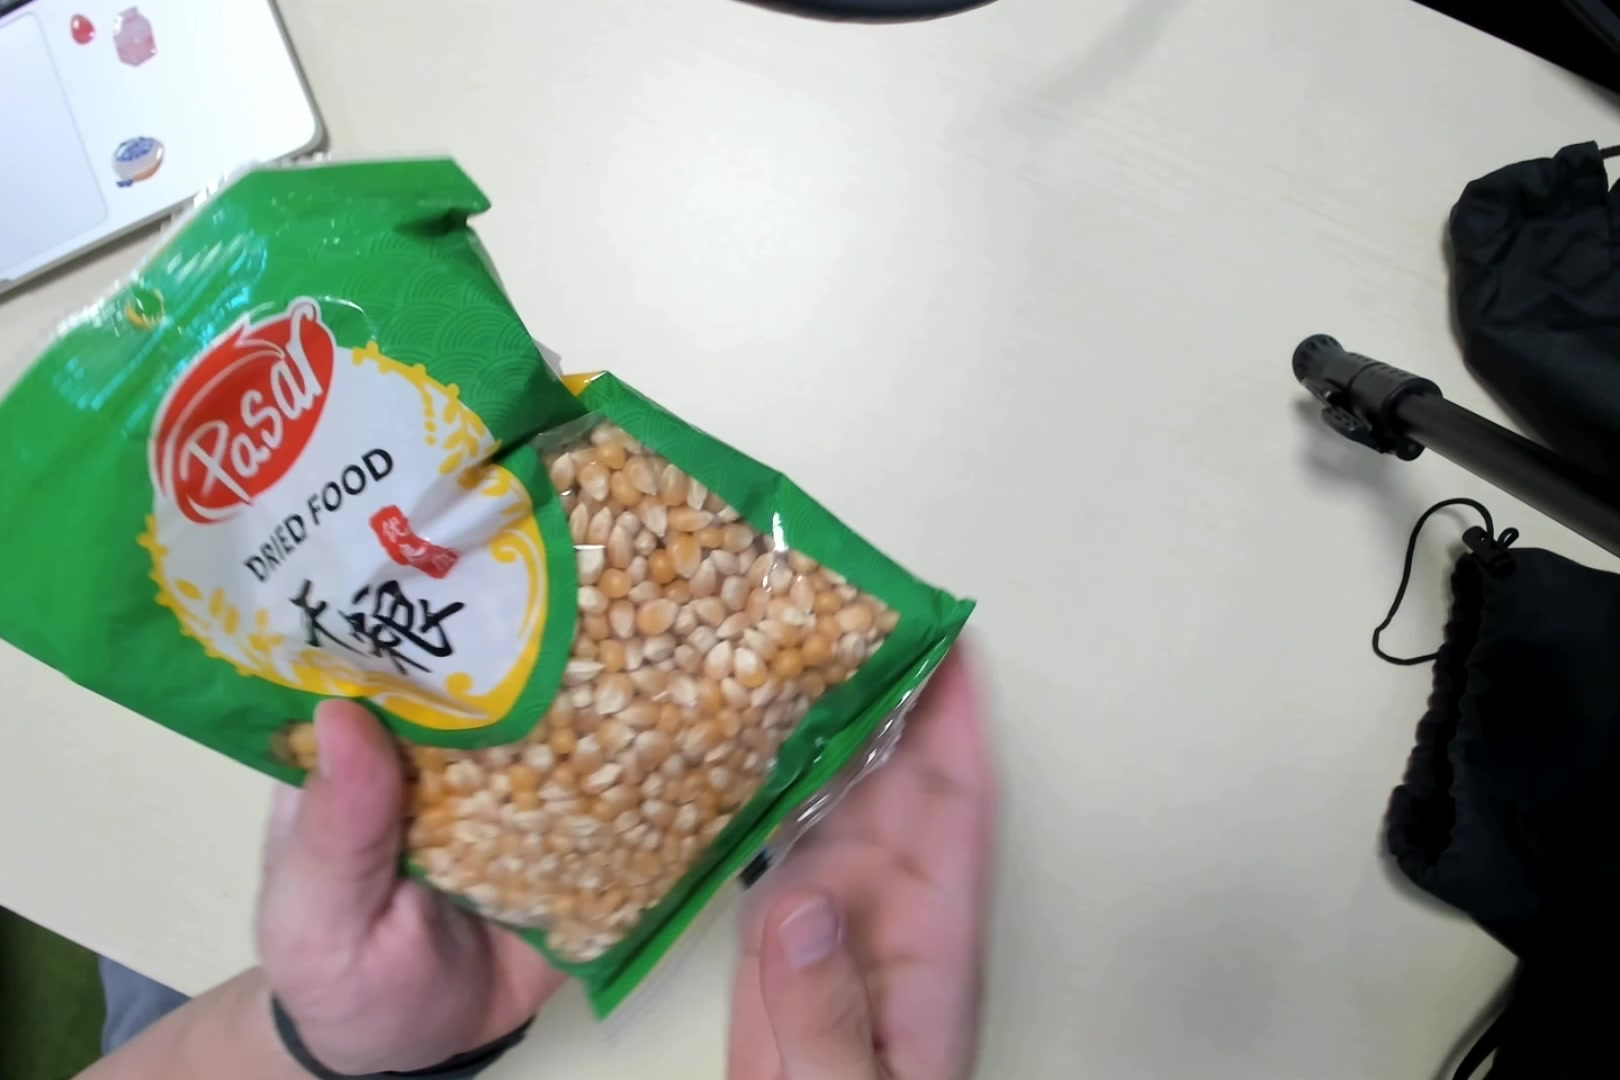DriedBeans(RedGreenSdy)_400-499g_NonHalal_NonHealthy: (14, 195, 899, 959)
